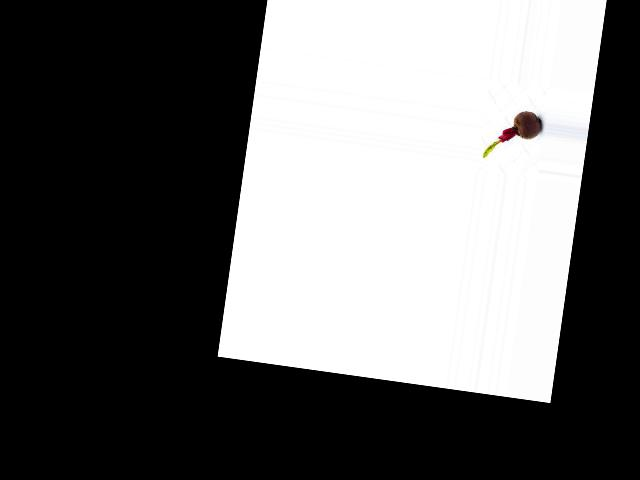beet: (483, 105, 542, 164)
